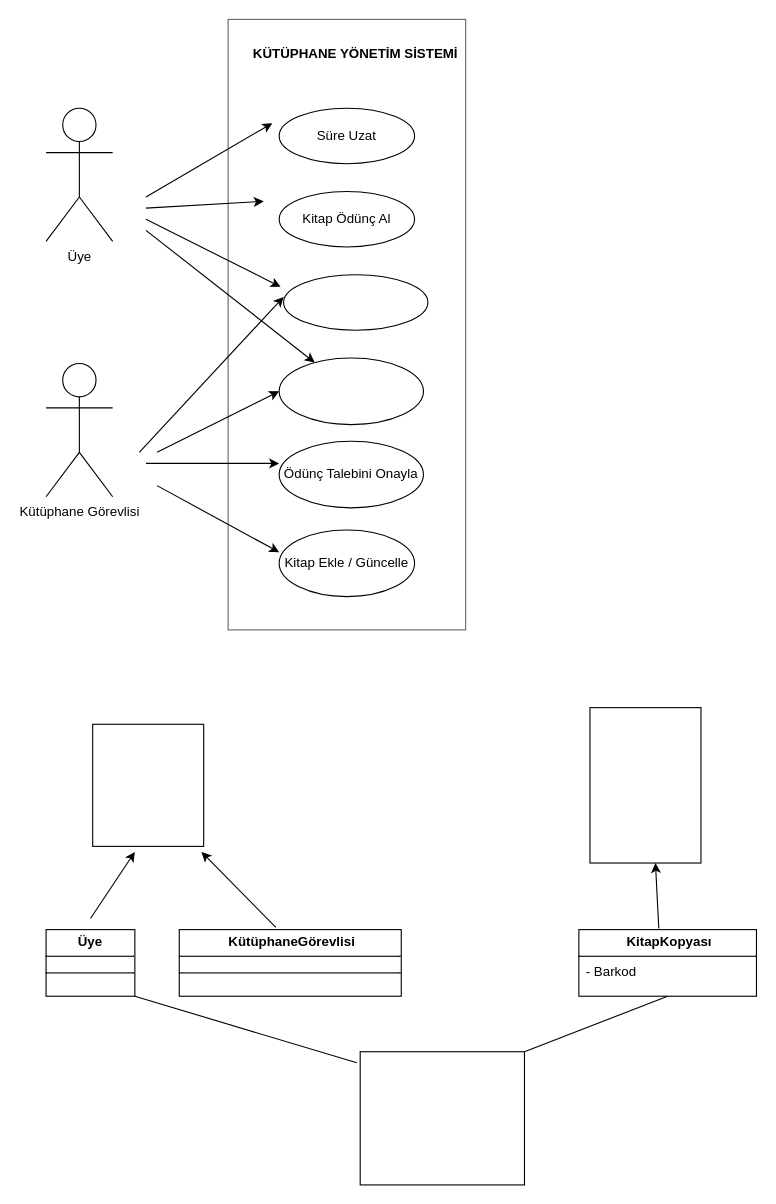
Image size: 776x1204. Some labels were removed from this diagram. The shapes that lost their labels are listed below. From the top down, each one's centre as x and y in pixels, then its label:
At (355,302): "Kitap Ara".
At (350,391): "Sisteme Giriş Yap".
At (148,784): "Kullanıcı - ID - Ad - E- posta - Şifre".
At (645,785): "Kitap - ISBN - Başlık - Yazar - Yayın Yılı - Durum".
At (441,1118): "ÖdünçAlma - İşlemNo - ÖdünçTarihi - SonTeslimTarihi - TeslimTarihi".
